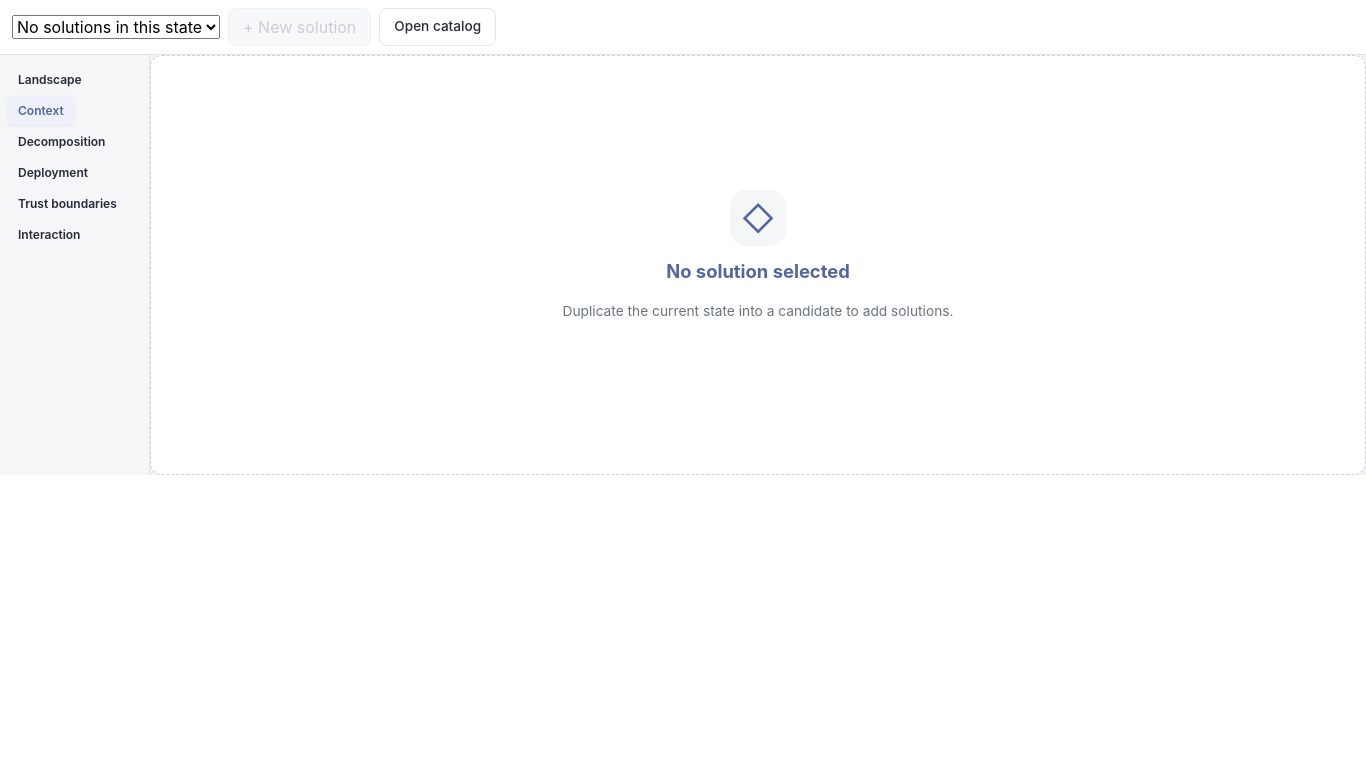
SolutionWorkbench › renders ordered messages in the interaction view
Click the button "Interaction" at (49, 234), box [8, 220, 90, 249]
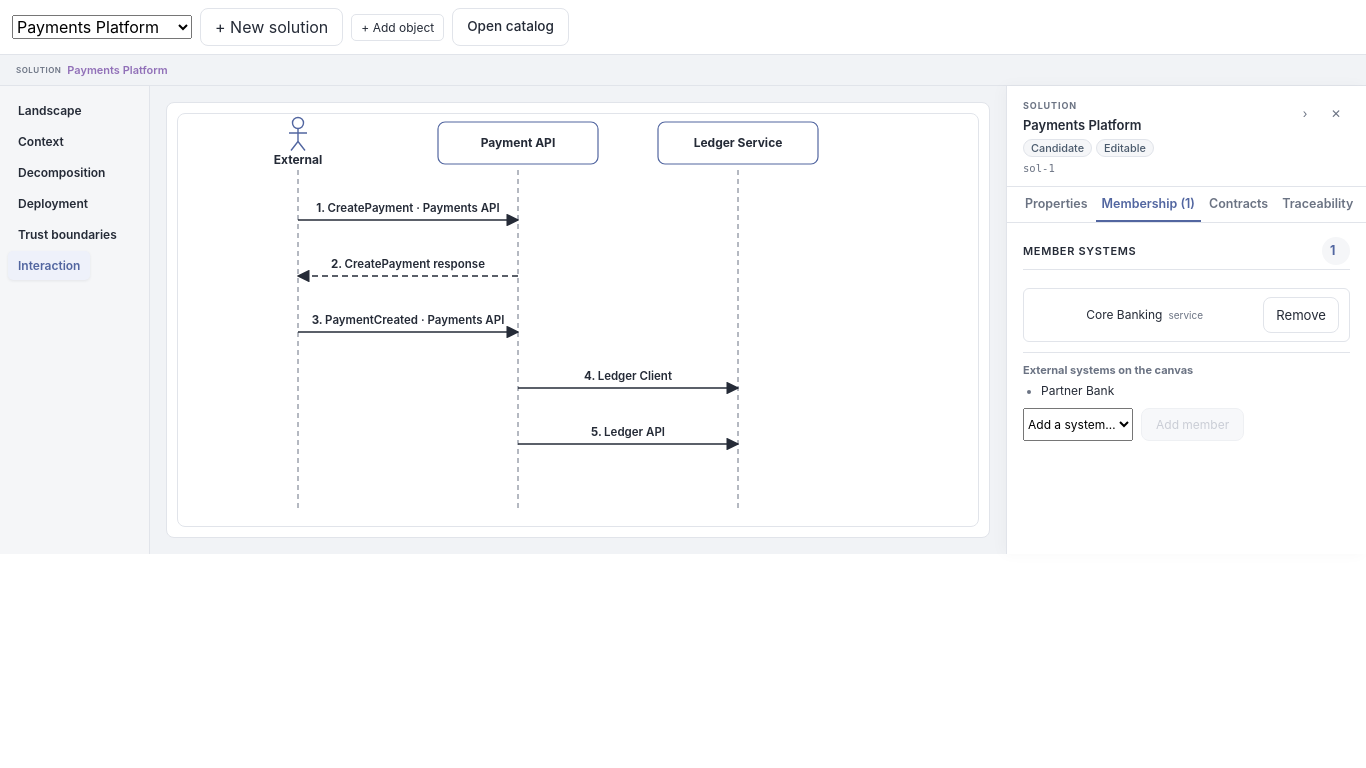
Expected: the element named "Interaction view for Payments Platform" shows "Payment API", [481, 135, 555, 150]
Expected: the element named "Interaction view for Payments Platform" shows "Payments API", [328, 201, 500, 215]
Expected: the element named "Interaction view for Payments Platform" shows "Ledger Client", [598, 369, 672, 383]
